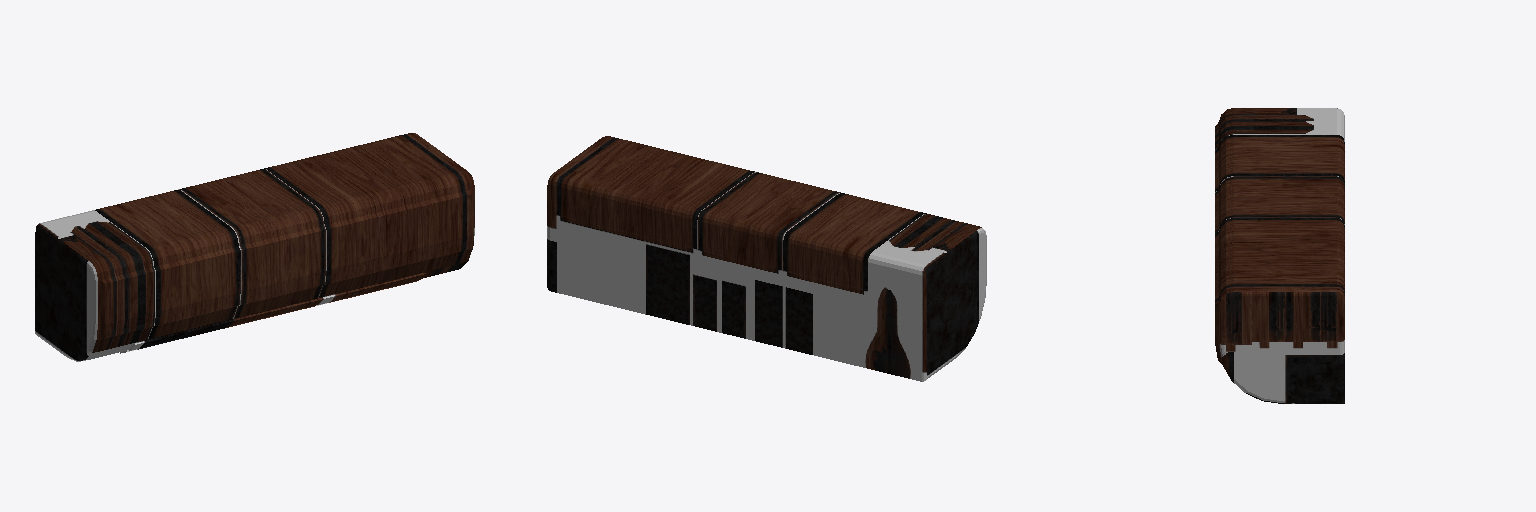
The picture shows the model from 3 angles: view 1: azimuth 30°, elevation 25°; view 2: azimuth 150°, elevation 25°; view 3: azimuth 270°, elevation 25°; orthographic projection.
Visible parts, largest first — view 1: AC_Ac_0; view 2: AC_Ac_0; view 3: AC_Ac_0.
Boxes of the visible parts, box(x1,y1,x2,y2) form: AC_Ac_0: box(35, 133, 474, 361); AC_Ac_0: box(547, 136, 986, 381); AC_Ac_0: box(1215, 108, 1344, 403).
Bounding box in the file's own units: 1.4 × 0.4 × 0.4115.
1 materials, 1 textured.